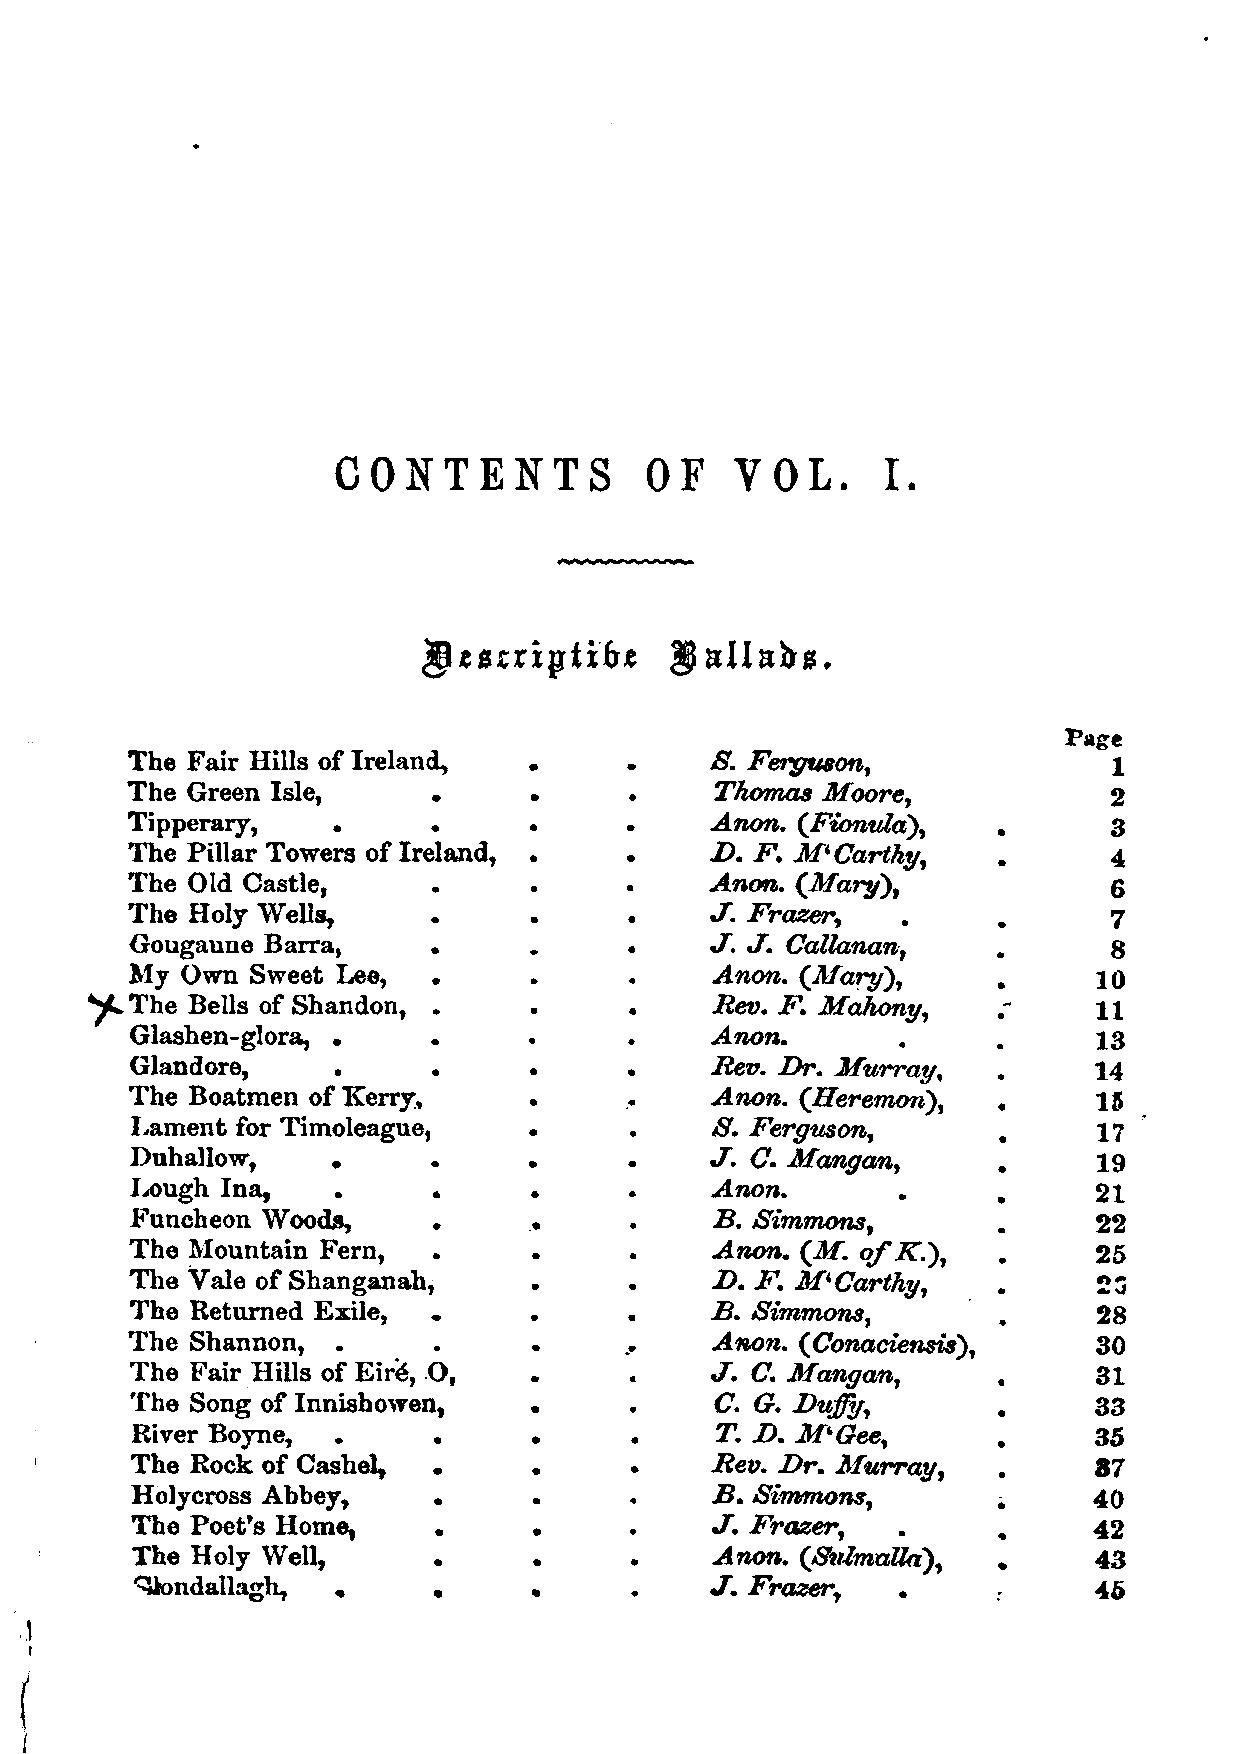TOC_chapter: (126, 743, 446, 774), (132, 1113, 425, 1143), (129, 1390, 446, 1418), (127, 1082, 416, 1113), (127, 1358, 455, 1385), (132, 1266, 428, 1295), (127, 839, 491, 862), (125, 961, 391, 990), (127, 1449, 386, 1478), (129, 1482, 349, 1511), (127, 992, 408, 1015), (127, 1235, 378, 1260), (127, 930, 341, 960), (127, 1296, 380, 1321), (125, 1202, 346, 1229), (132, 1511, 360, 1537), (129, 1541, 325, 1570), (129, 1019, 310, 1049), (123, 899, 335, 925), (127, 868, 327, 894), (125, 778, 319, 803), (126, 1326, 301, 1351), (129, 1423, 293, 1449), (130, 1173, 275, 1202), (130, 1574, 293, 1600), (122, 808, 259, 837), (130, 1145, 248, 1172), (127, 1051, 246, 1075)
TOC_pagenumber: (1090, 1514, 1125, 1541), (1092, 996, 1125, 1023), (1094, 1272, 1127, 1298), (1092, 1088, 1125, 1114), (1092, 1453, 1125, 1479), (1095, 1577, 1127, 1602), (1095, 1150, 1129, 1174), (1095, 1210, 1129, 1235), (1094, 1546, 1127, 1570), (1092, 969, 1127, 992), (1091, 1424, 1126, 1447), (1092, 1057, 1125, 1082), (1092, 1119, 1125, 1143), (1094, 1393, 1126, 1417), (1092, 1486, 1125, 1510), (1094, 1180, 1125, 1204), (1095, 1240, 1126, 1264), (1095, 1300, 1126, 1325), (1095, 1363, 1125, 1388), (1095, 1333, 1126, 1355), (1094, 1028, 1126, 1049), (1107, 752, 1129, 778), (1106, 815, 1127, 837), (1108, 937, 1129, 961), (1107, 878, 1129, 899), (1108, 847, 1129, 870), (1108, 785, 1127, 808), (1108, 909, 1126, 929)
chapter: (333, 450, 925, 498), (417, 632, 835, 682)
